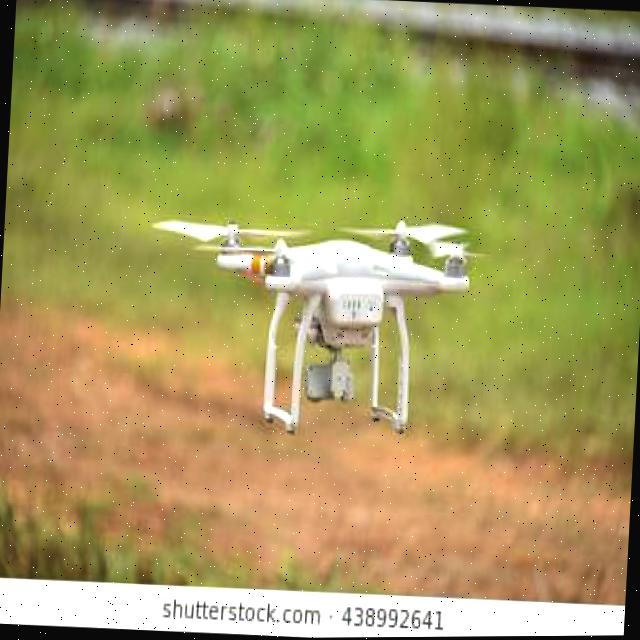drone: (144, 194, 498, 458)
